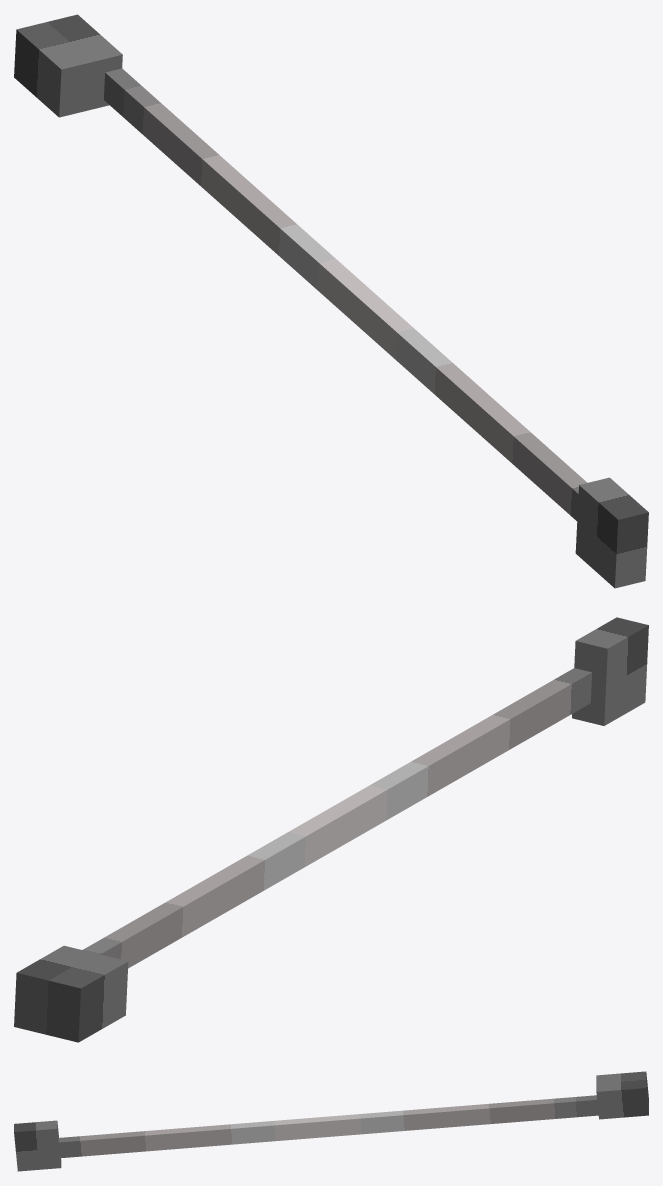
Rendered from eccentric_rod.obj.
3 renders of one model, top to bottom at view 1: azimuth 30°, elevation 25°; view 2: azimuth 150°, elevation 25°; view 3: azimuth 270°, elevation 25°, orthographic. The views are drawn at different scales.
Visible parts, largest first — view 1: 偏心杆; view 2: 偏心杆; view 3: 偏心杆.
Part boxes in pixels (x1,y1,x2,y2): 偏心杆: (14,14,648,588); 偏心杆: (14,617,648,1042); 偏心杆: (14,1071,648,1171).
Bounding box in the file's own units: 0.1125 × 0.2644 × 1.82.
